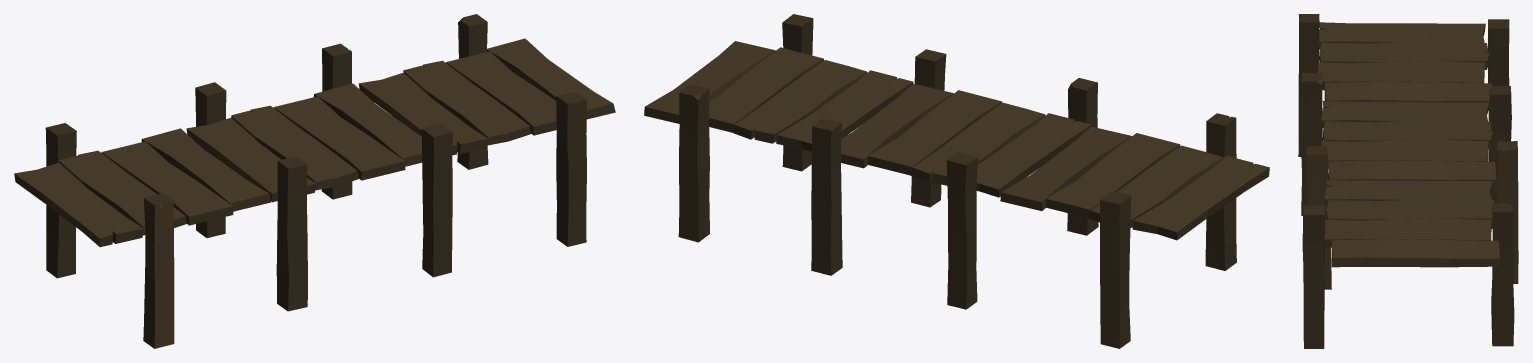
The model's file is bridge_wooden_small.fbx.
3 views of the same model, side by side, from view 1: azimuth 30°, elevation 25°; view 2: azimuth 150°, elevation 25°; view 3: azimuth 270°, elevation 25° (orthographic). The views are drawn at different scales.
Visible parts, largest first — view 1: Cube.009; view 2: Cube.009; view 3: Cube.009.
Boxes of the visible parts, bbox=[...] form: Cube.009: bbox=[14, 14, 615, 348]; Cube.009: bbox=[644, 14, 1269, 348]; Cube.009: bbox=[1298, 14, 1518, 348].
Bounding box in the file's own units: 3337 × 918 × 1296.
